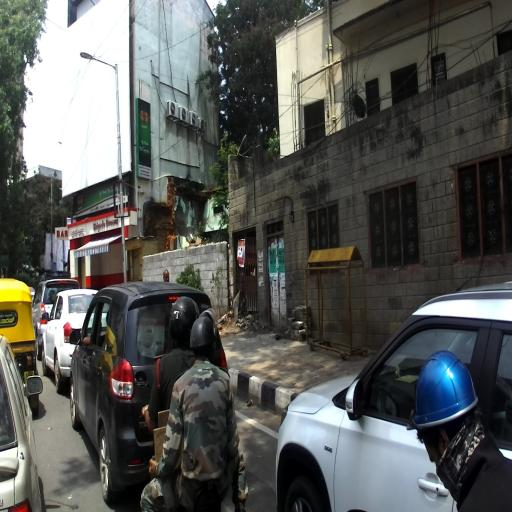street_light_0: (78, 52, 118, 70)
